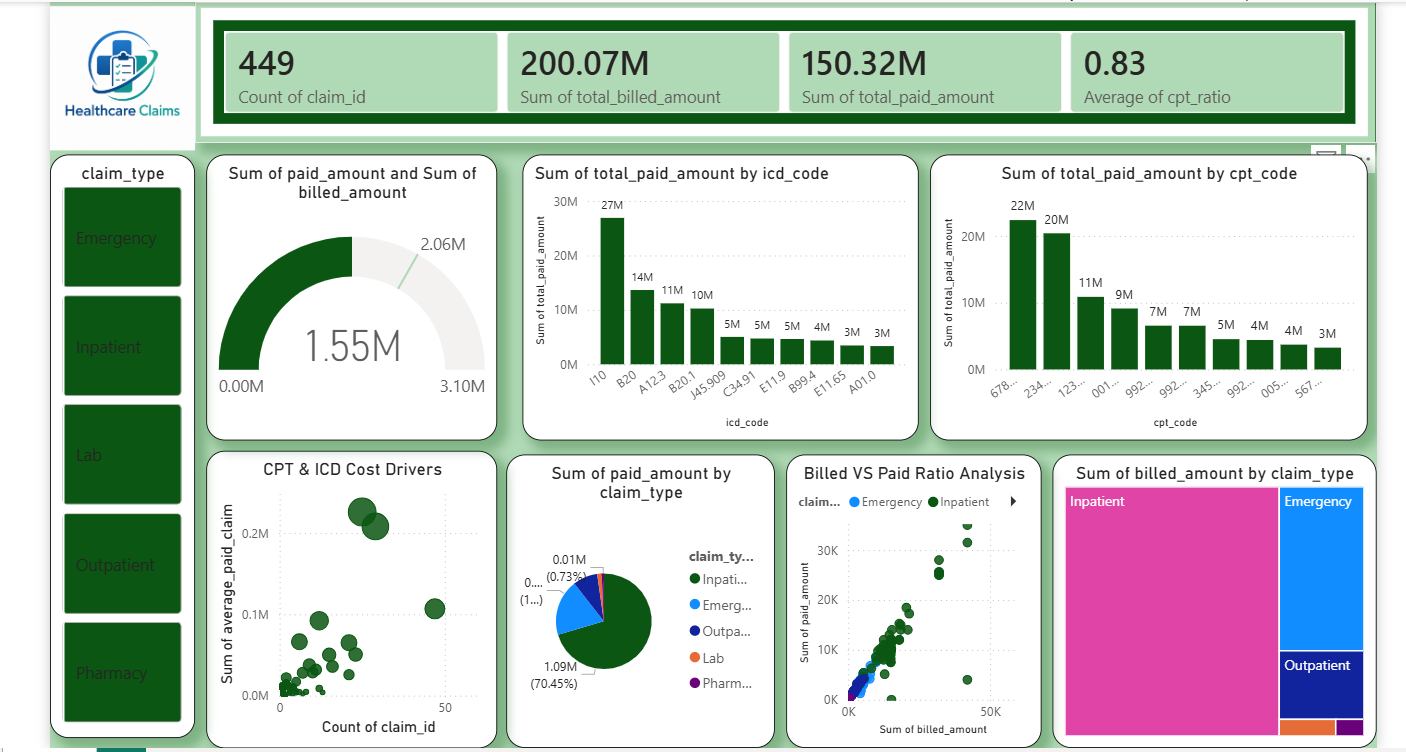

Layout of this report page (visuals, bound fields, positions):
{"tool":"powerbi","page":{"name":"Page 1","canvas":[1280,720],"ordinal":0},"visuals":[{"type":"cardVisual","fields":{"Data":["Count(Sheet1.claim_id)","Sum(Sheet1.total_billed_amount)","Sum(Sheet1.total_paid_amount)","Avg(Sheet1.cpt_ratio)"]},"box":[139.9,0,1140.1,136.3],"z":0},{"type":"clusteredColumnChart","fields":{"Y":["Sum(Sheet1.total_paid_amount)"],"Category":["Sheet1.cpt_code"]},"box":[849.3,147.2,422.3,276.3],"z":1000},{"type":"clusteredColumnChart","fields":{"Category":["Sheet1.icd_code"],"Y":["Sum(Sheet1.total_paid_amount)"]},"box":[456,147.2,382.4,276.3],"z":2000},{"type":"pieChart","fields":{"Category":["Sheet1.claim_type"],"Y":["Sum(Sheet1.paid_amount)"]},"box":[440.4,436.7,259.4,283.5],"z":3000},{"type":"treemap","fields":{"Group":["Sheet1.claim_type"],"Values":["Sum(Sheet1.billed_amount)"]},"box":[967.6,436.7,312.5,283.5],"z":4000},{"type":"scatterChart","title":"CPT & ICD Cost Drivers","fields":{"X":["CountNonNull(Sheet1.claim_id)"],"Y":["Sum(Sheet1.average_paid_claim)"],"Size":["Sum(Sheet1.total_paid_amount)"],"Category":["Sheet1.cpt_code"]},"box":[150.8,433.1,281.1,287.1],"z":5000},{"type":"scatterChart","title":"Billed VS Paid Ratio Analysis","fields":{"X":["Sum(Sheet1.billed_amount)"],"Y":["Sum(Sheet1.paid_amount)"],"Category":["Sheet1.claim_id"],"Series":["Sheet1.claim_type"]},"box":[710.6,436.7,246.1,283.5],"z":6000},{"type":"gauge","fields":{"TargetValue":["Sum(Sheet1.billed_amount)"],"Y":["Sum(Sheet1.paid_amount)"]},"box":[150.8,147.2,281.1,276.3],"z":7000},{"type":"advancedSlicerVisual","fields":{"Values":["Sheet1.claim_type"]},"box":[0,147.2,139.9,563.4],"z":8000},{"type":"image","box":[0,0,139.9,147.2],"z":8001}]}

Visuals, with their boxes in screenshot pixels (x1, y1, x2, y2):
cardVisual - Count(Sheet1.claim_id) x Sum(Sheet1.total_billed_amount): (191,15,1364,155)
clusteredColumnChart - Sum(Sheet1.total_paid_amount) x Sheet1.cpt_code: (921,166,1355,450)
clusteredColumnChart - Sheet1.icd_code x Sum(Sheet1.total_paid_amount): (516,166,910,450)
pieChart - Sheet1.claim_type x Sum(Sheet1.paid_amount): (500,464,767,751)
treemap - Sheet1.claim_type x Sum(Sheet1.billed_amount): (1042,464,1364,751)
"CPT & ICD Cost Drivers" scatterChart: (203,460,492,751)
"Billed VS Paid Ratio Analysis" scatterChart: (778,464,1031,751)
gauge - Sum(Sheet1.billed_amount) x Sum(Sheet1.paid_amount): (203,166,492,450)
advancedSlicerVisual - Sheet1.claim_type: (48,166,191,745)
image: (48,15,191,166)
